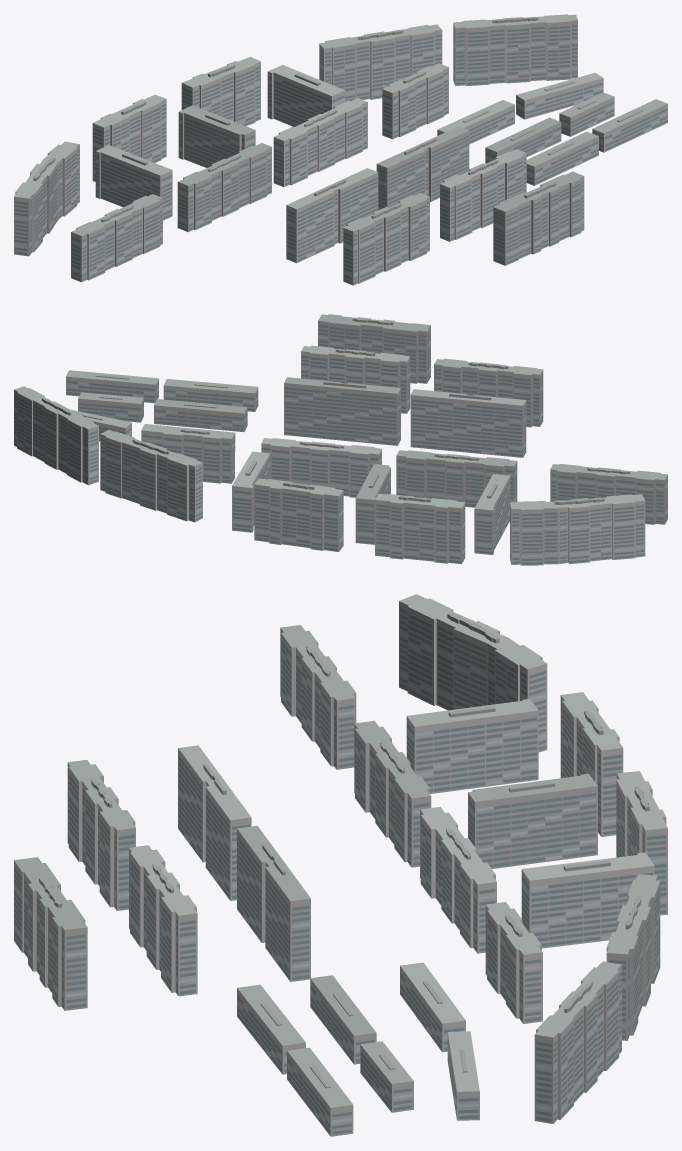
The model's file is apt-a13589802.glb.
3 views of the same model, one above another, from view 1: azimuth 30°, elevation 25°; view 2: azimuth 150°, elevation 25°; view 3: azimuth 270°, elevation 25° (orthographic). The views are drawn at different scales.
Parts seen in each view (by area): view 1: apt-a13589802; view 2: apt-a13589802; view 3: apt-a13589802.
Part boxes in pixels (left/top/right/bottom): apt-a13589802: left=14, top=14, right=667, bottom=285; apt-a13589802: left=14, top=314, right=667, bottom=565; apt-a13589802: left=14, top=594, right=667, bottom=1136.
Size of the model in its own units: 517 by 47.81 by 313.
